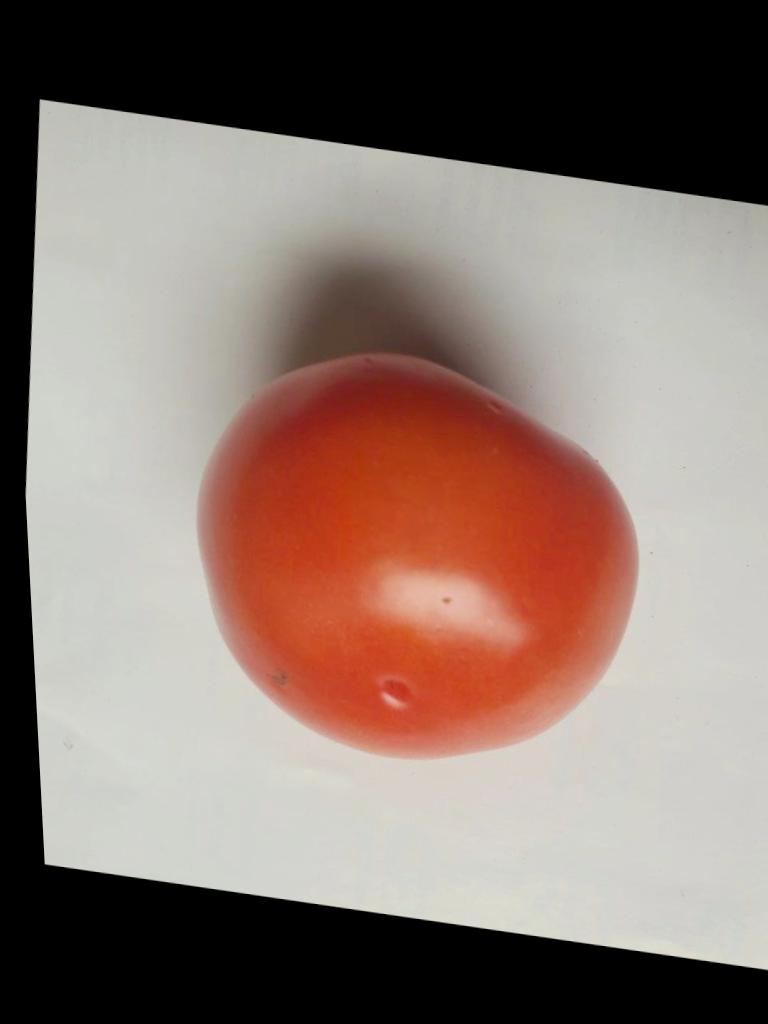tomato: (199, 352, 637, 756)
